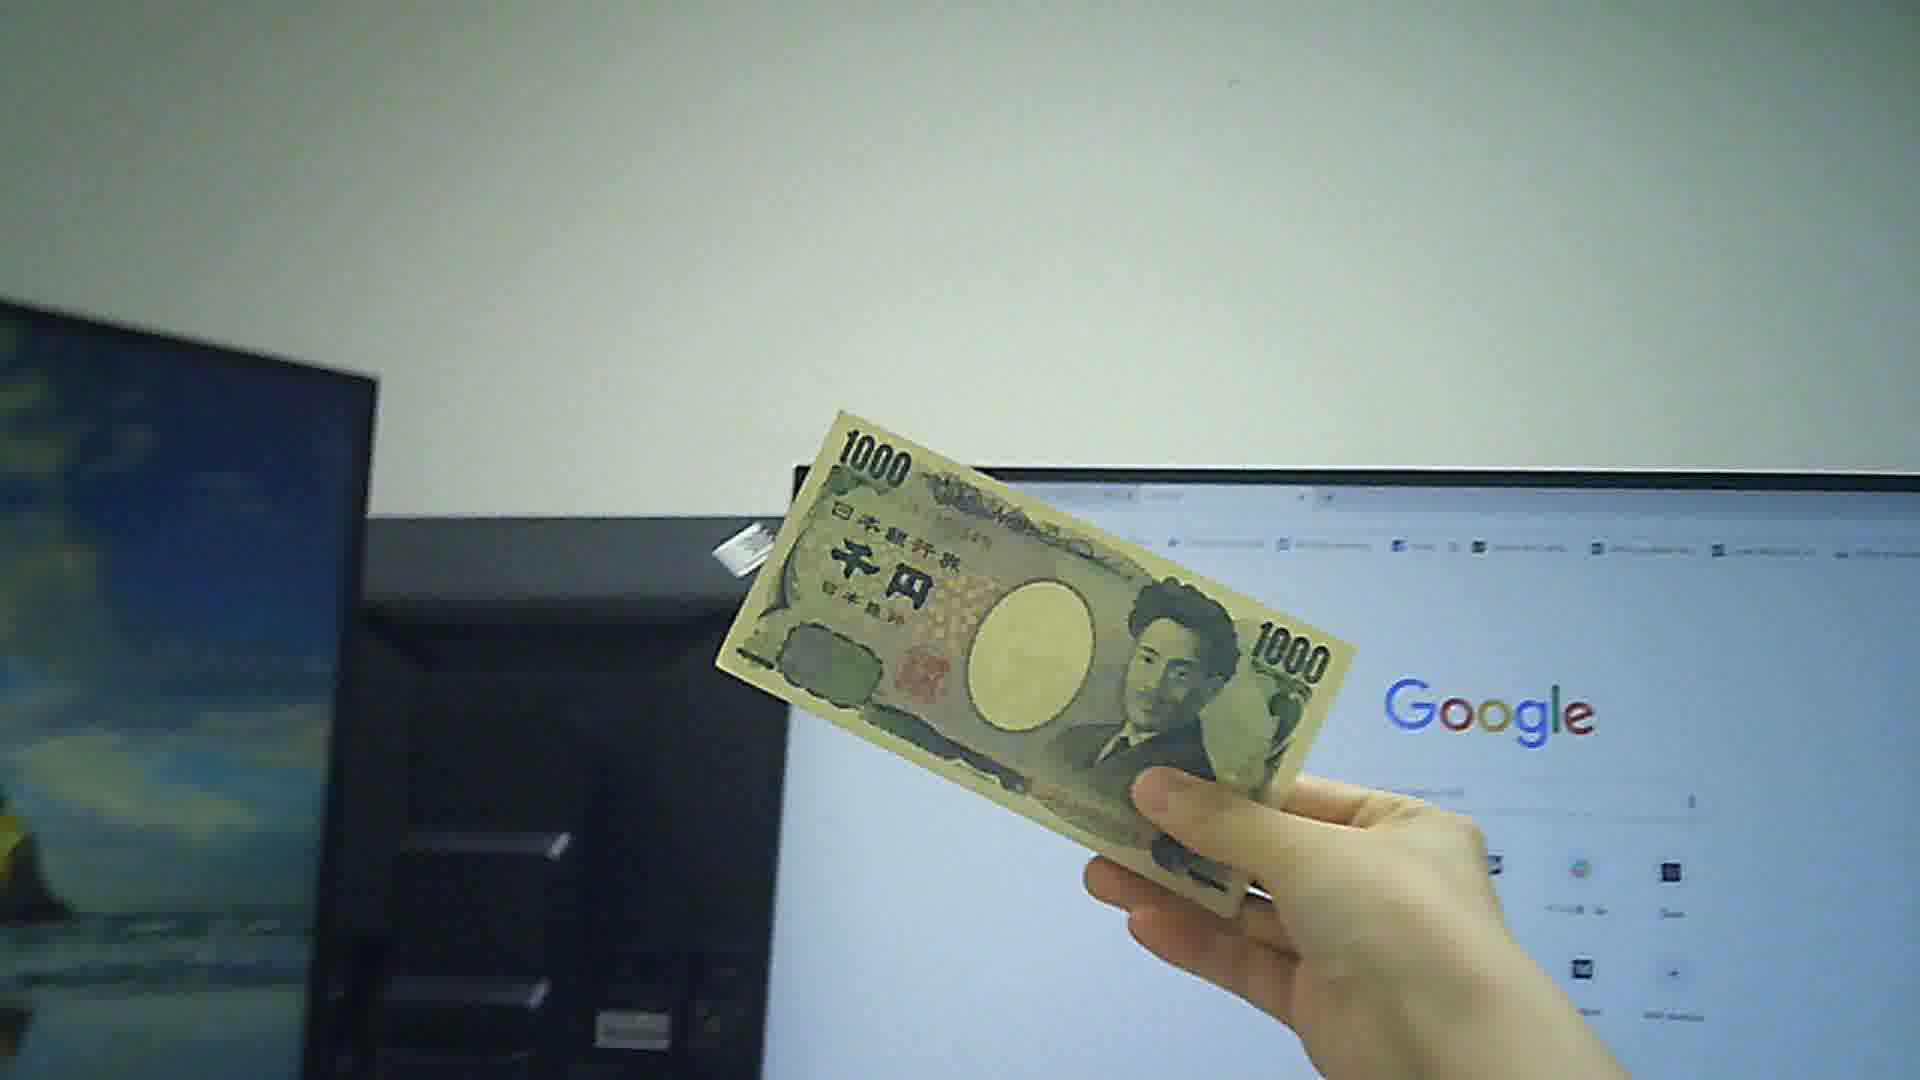1,000 Yen: (715, 410, 1348, 926)
